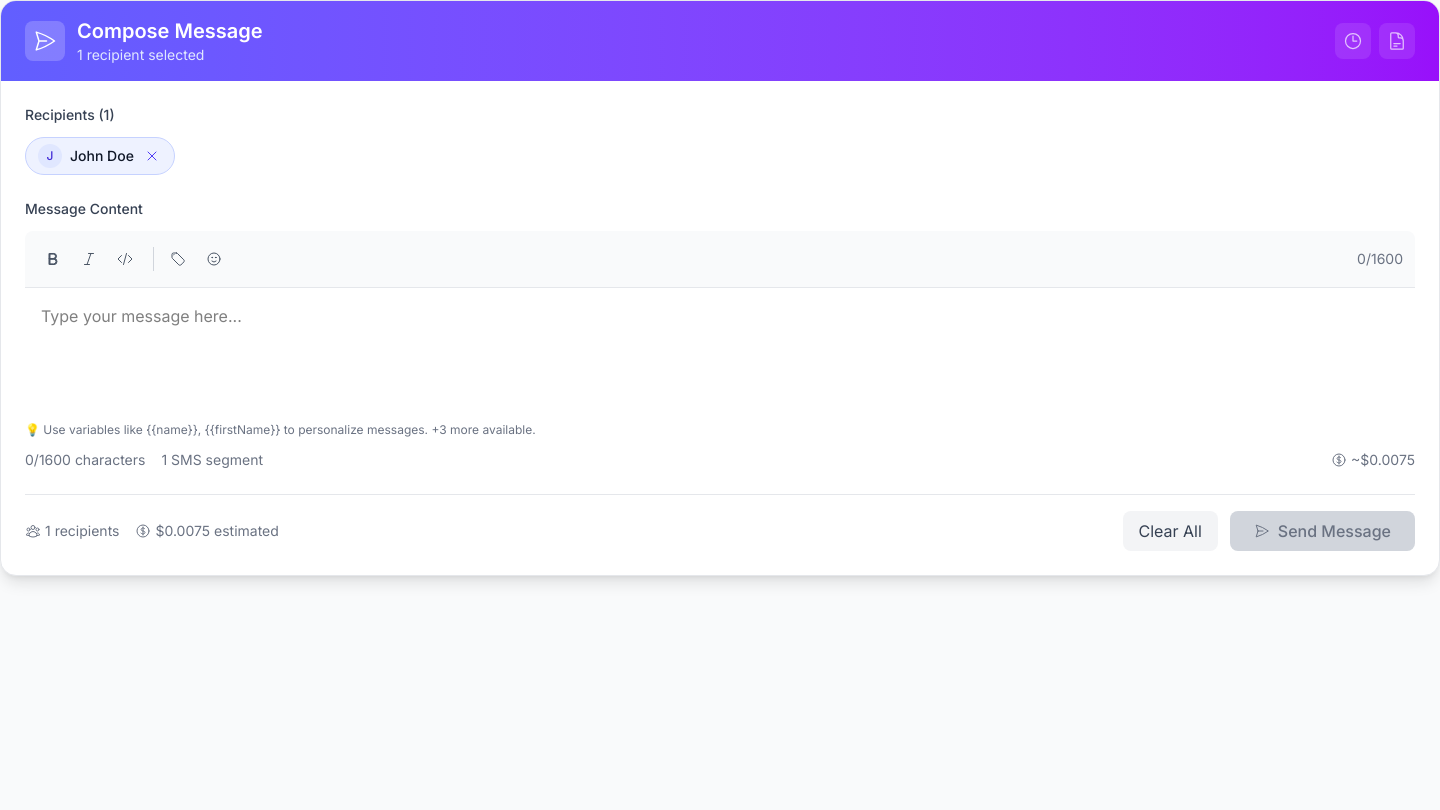
MessageComposer Component › enables send button when message and contacts are provided
Expected: the button "Send Message" is disabled, [1230,511,1415,551]
// Type message
Step 1. Type "Test message" into the text box → (720, 348), box [25,288,1415,408]
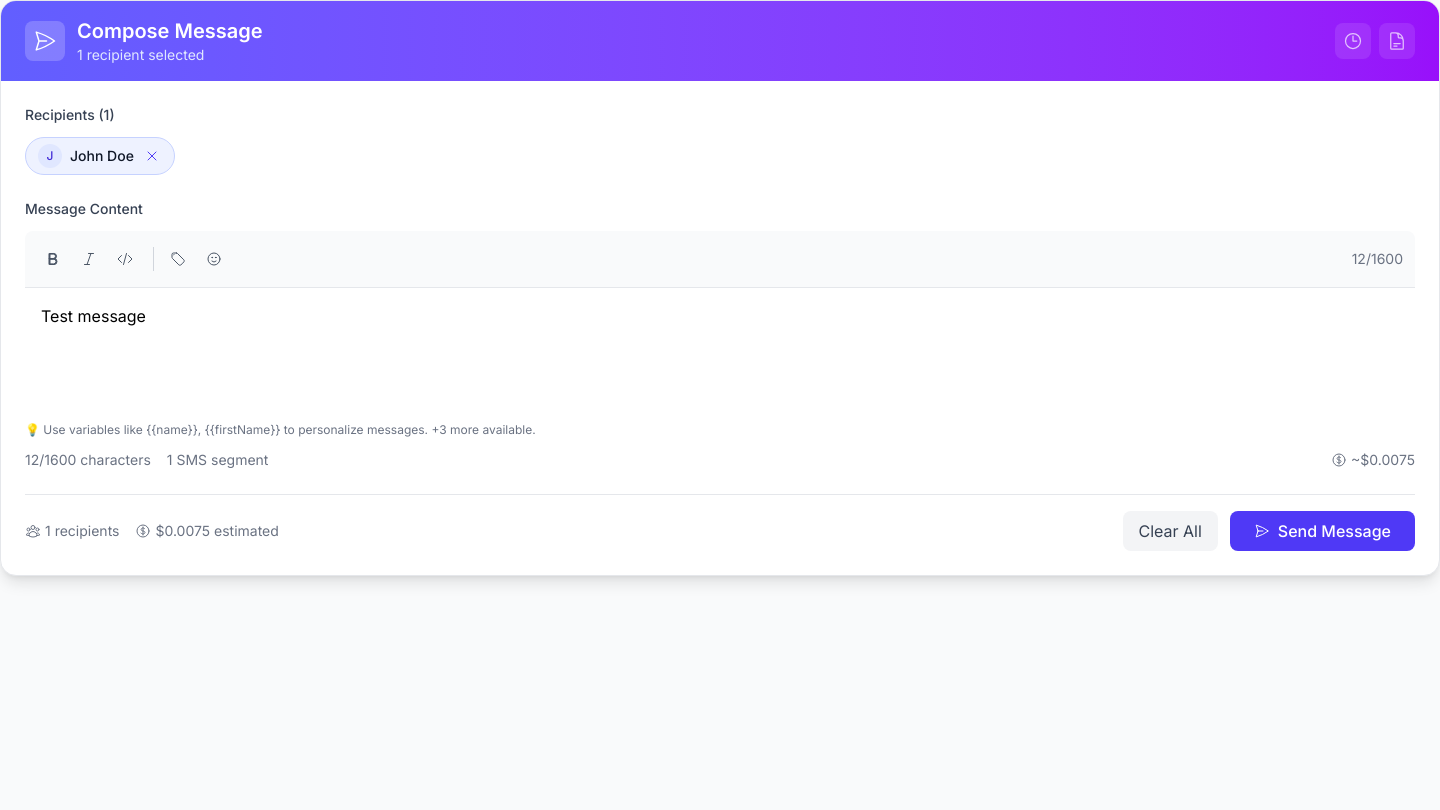
Result: the button "Send Message" is enabled at [1230,511,1415,551]
